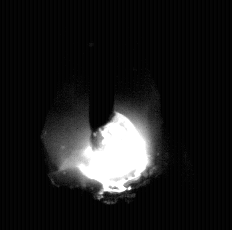arame: (90, 0, 116, 149)
poca: (40, 0, 164, 230)
